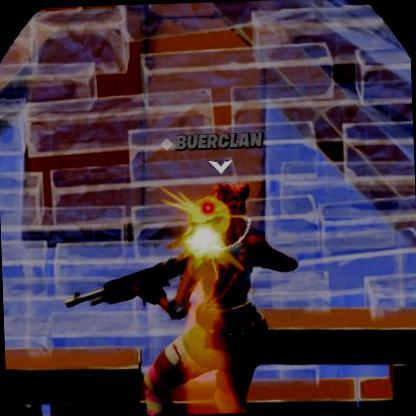person: (152, 175, 260, 409)
